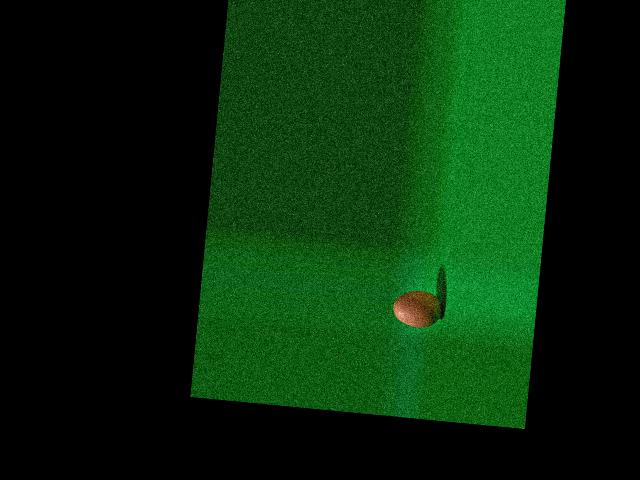egg: (392, 288, 444, 329)
